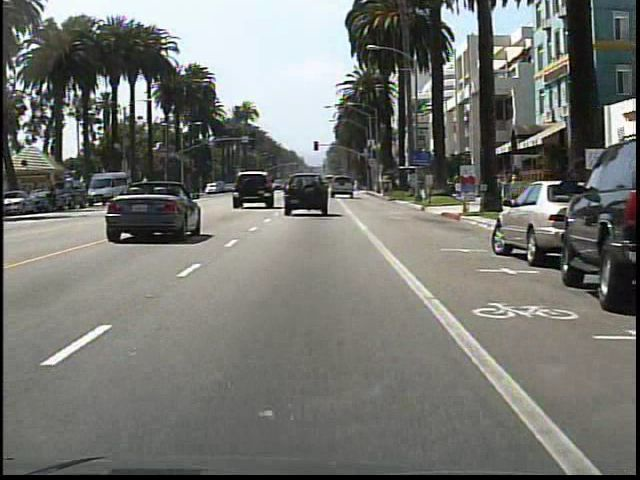person: (46, 178, 62, 215)
